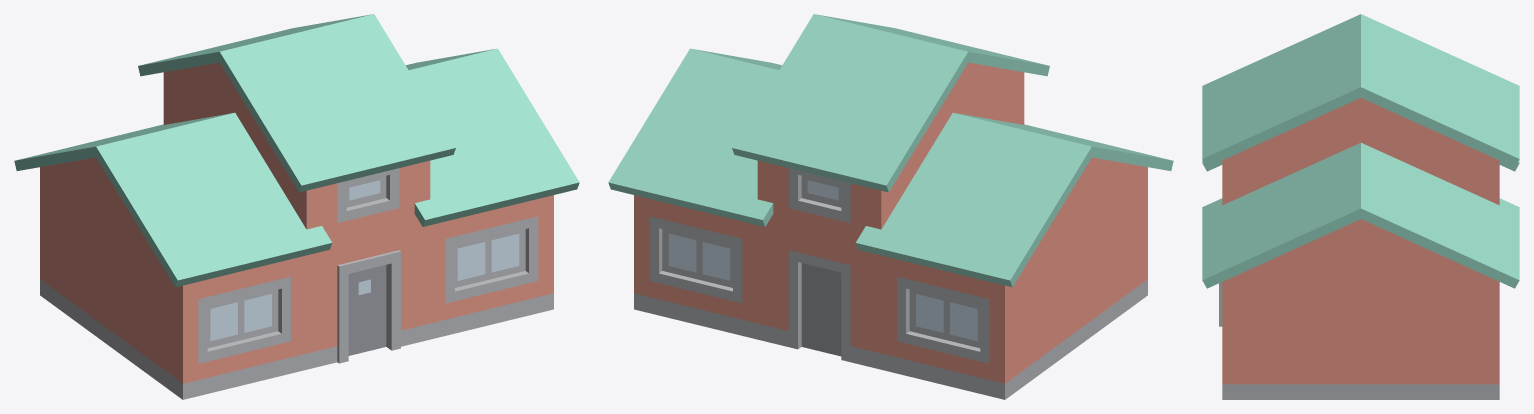
The model's file is house_type09.gltf.
The picture shows the model from 3 angles, left to right: view 1: azimuth 30°, elevation 25°; view 2: azimuth 150°, elevation 25°; view 3: azimuth 270°, elevation 25°; orthographic projection. The views are drawn at different scales.
Visible parts, largest first — view 1: house_type09; view 2: house_type09; view 3: house_type09.
Boxes of the visible parts, left/top/right/bottom form: house_type09: left=14, top=14, right=579, bottom=399; house_type09: left=608, top=14, right=1173, bottom=399; house_type09: left=1202, top=14, right=1519, bottom=399.
Bounding box in the file's own units: 1.3 × 0.8335 × 0.9163.
